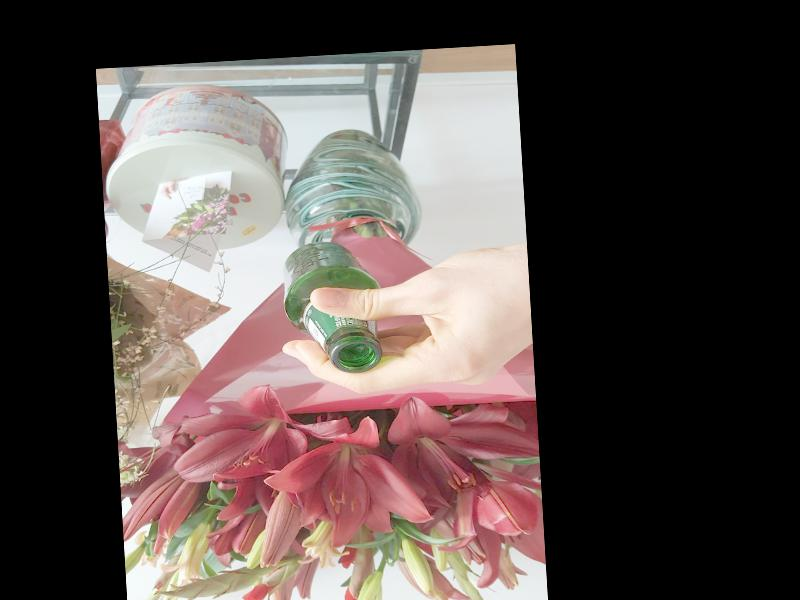Beer: (280, 238, 386, 377)
